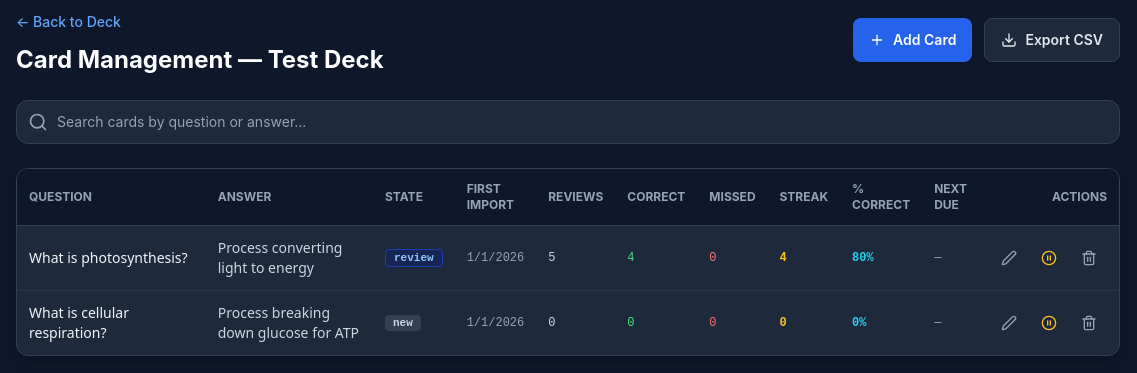
CardManagementView (MGT-001..MGT-011) › MGT-002: Search filters cards by question or answer
This screenshot has width=1137, height=373.
Type "glucose" into the field with placeholder "Search cards by question or answer..." at (568, 122), box x1=16 y1=100 x2=1120 y2=144
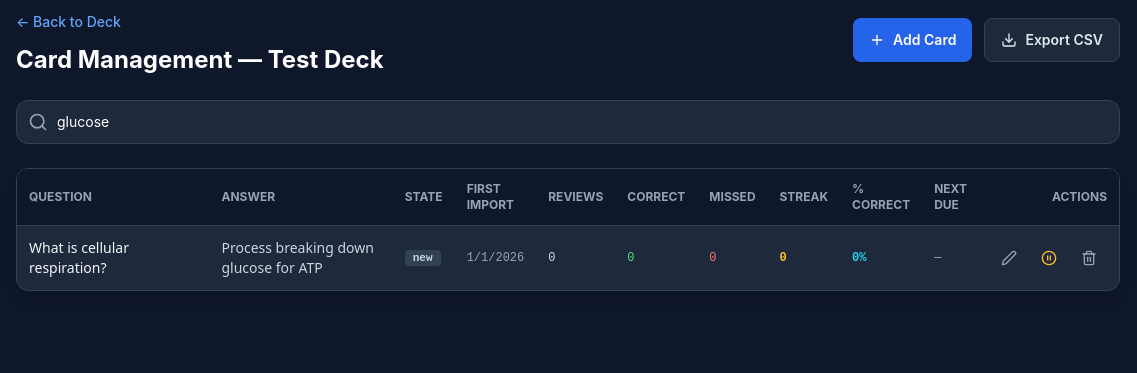
Check: the text "What is cellular respiration?" is shown, box x1=29 y1=238 x2=129 y2=277
Check: the text "What is photosynthesis?" is gone
